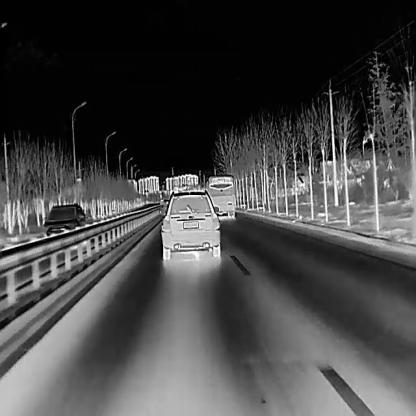bus: (203, 174, 234, 219)
car: (160, 188, 220, 260), (42, 202, 85, 238)
